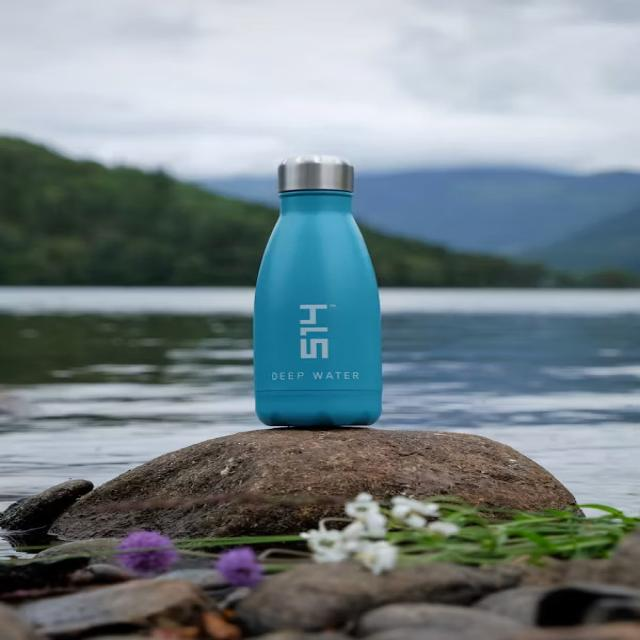Bottle: (254, 156, 381, 426)
